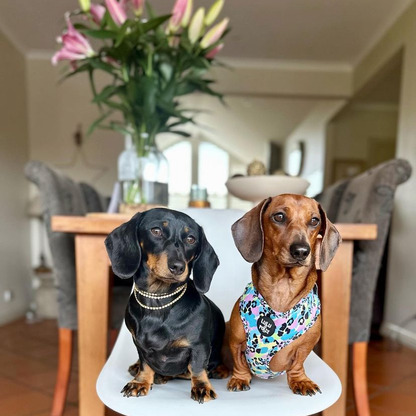dachshund: (91, 205, 232, 404), (235, 197, 347, 406)
